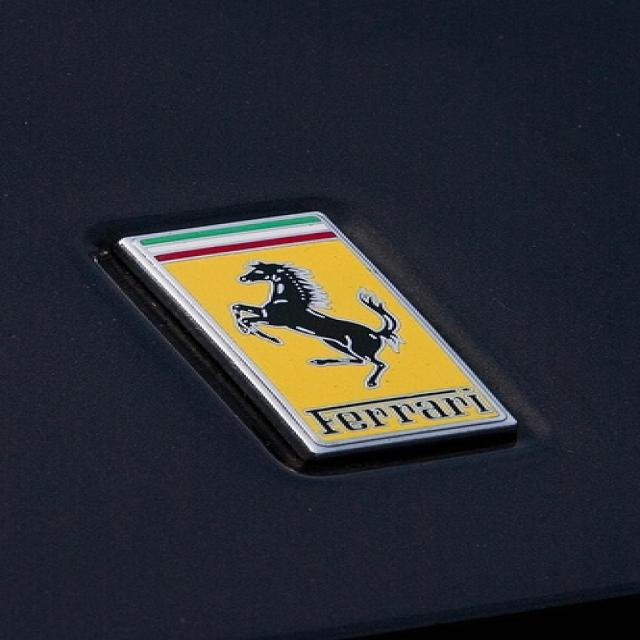ferrari: (128, 214, 512, 451)
